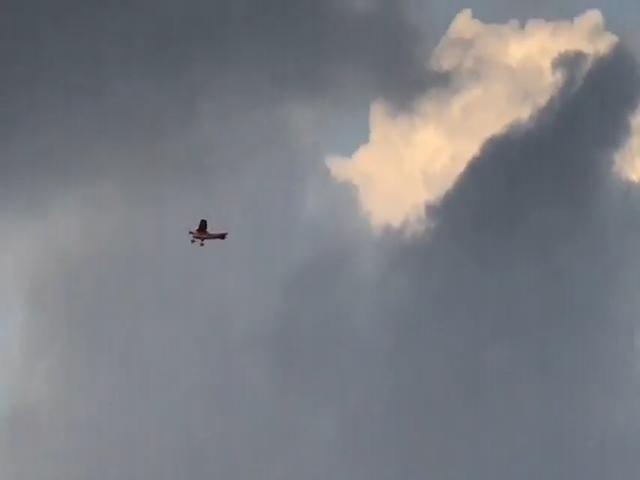plane: (188, 219, 226, 243)
